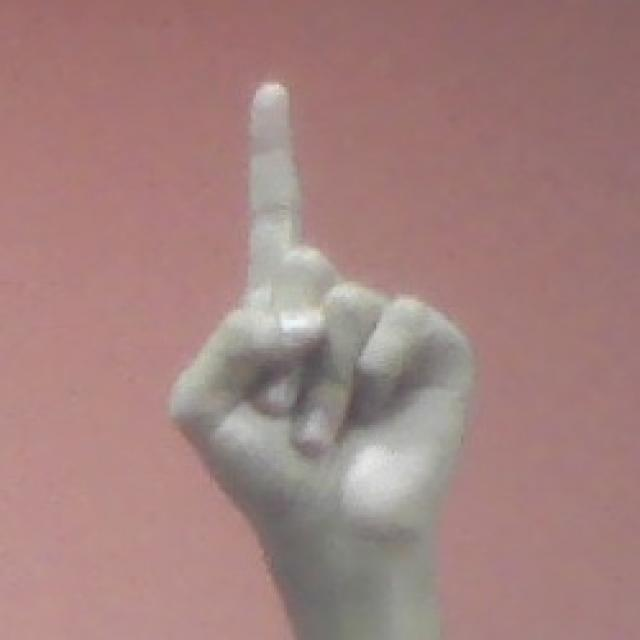Numeric-1: (167, 82, 475, 562)
